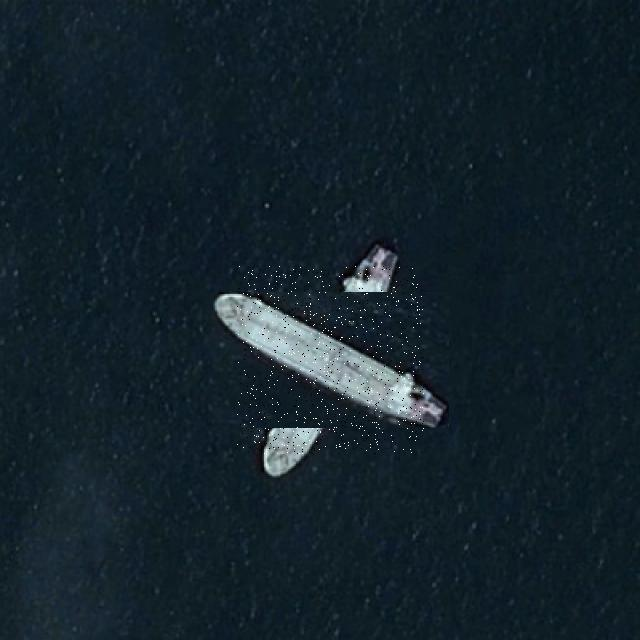boat: (237, 266, 424, 454)
